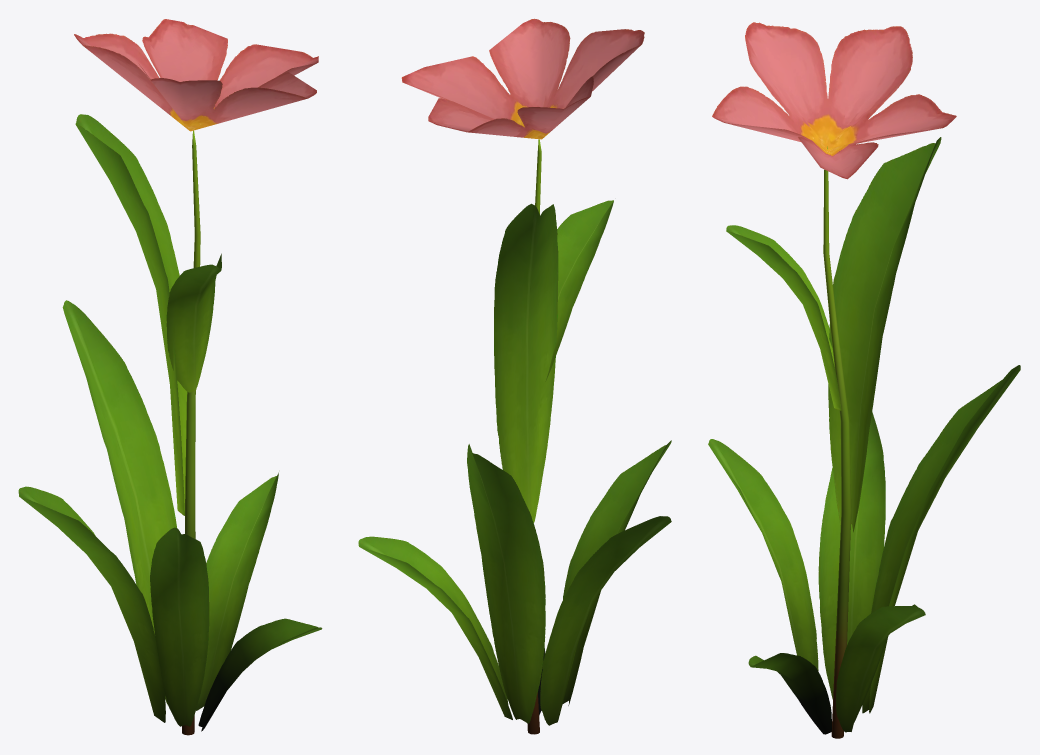
The model's file is Flower_3_Single.gltf.
3 views of the same model, side by side, from view 1: azimuth 30°, elevation 25°; view 2: azimuth 150°, elevation 25°; view 3: azimuth 270°, elevation 25° (orthographic). The views are drawn at different scales.
Parts seen in each view (by area): view 1: Flower_3_Single; view 2: Flower_3_Single; view 3: Flower_3_Single.
Boxes of the visible parts, x1,y1,x2,y2 form: Flower_3_Single: (18, 19, 322, 735); Flower_3_Single: (358, 18, 671, 734); Flower_3_Single: (708, 22, 1020, 738).
Bounding box in the file's own units: 0.9066 × 2.07 × 0.8775.
2 materials, 2 textured.
